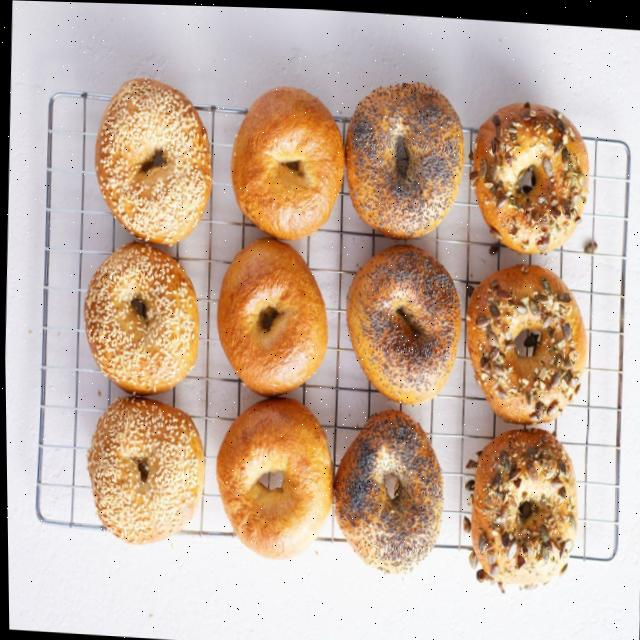Bagel: (94, 77, 209, 244), (464, 262, 585, 420), (214, 395, 330, 557), (344, 80, 462, 236), (345, 242, 458, 402), (469, 99, 588, 249), (331, 407, 440, 570), (465, 426, 576, 582), (83, 240, 196, 393), (215, 236, 325, 393), (84, 396, 202, 542), (230, 85, 342, 237)
